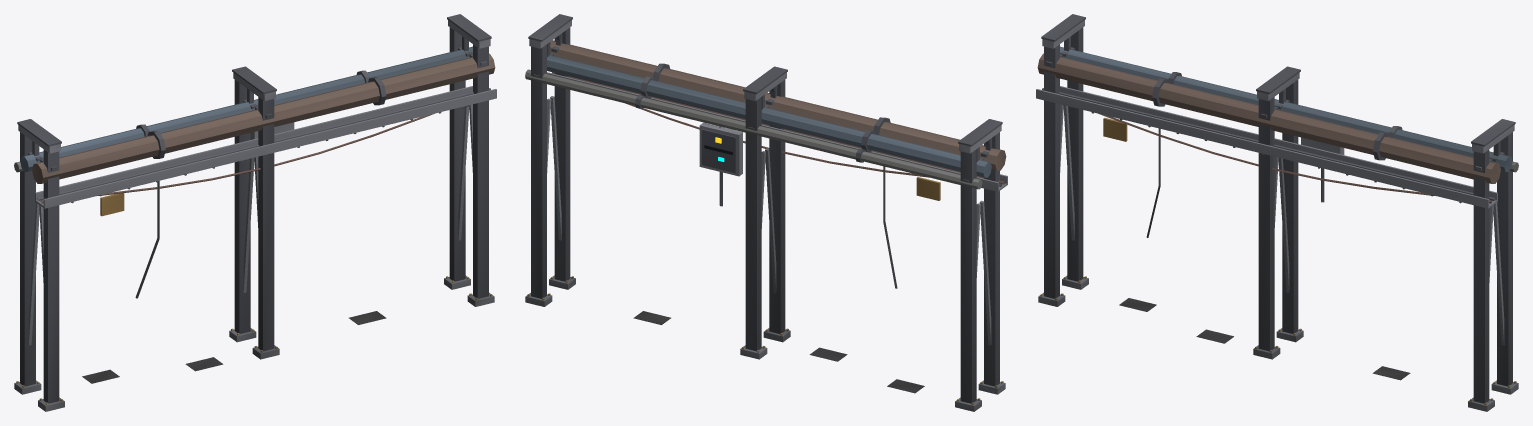
The model's file is alley_conduit.glb.
3 views of the same model, side by side, from view 1: azimuth 30°, elevation 25°; view 2: azimuth 150°, elevation 25°; view 3: azimuth 330°, elevation 25° (orthographic).
Visible parts, largest first — view 1: alley_conduit; view 2: alley_conduit; view 3: alley_conduit.
Boxes of the visible parts, box(x1,y1,x2,y2) form: alley_conduit: box(14, 14, 496, 411); alley_conduit: box(525, 14, 1007, 411); alley_conduit: box(1036, 14, 1518, 411).
Size of the model in its own units: 8 by 4.5 by 1.01.
